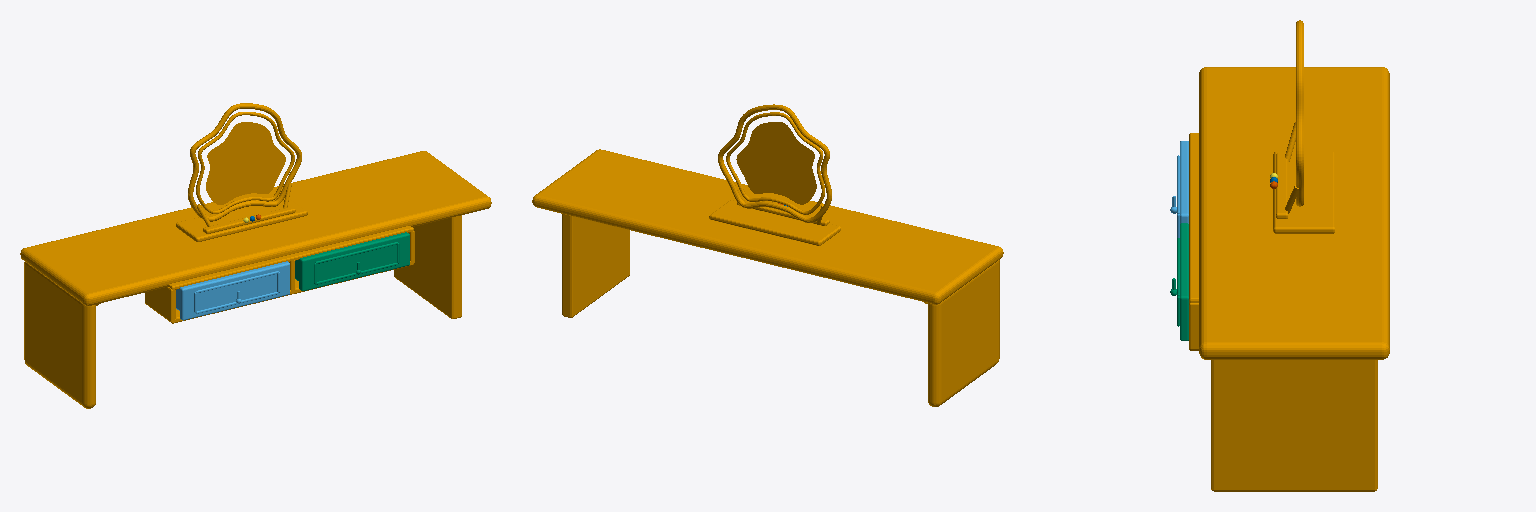
The robot description file, URDF, robot "dressing_table001":
<?xml version="1.0"?>

<robot name="dressing_table001">

  <link name="base_link">
    <inertial>
      <origin xyz="0 0 0" rpy="0 0 0"/>
      <mass value="8"/>
      <inertia ixx="0.08" ixy="0" ixz="0" iyy="0.08" iyz="0" izz="0.08"/>
    </inertial>
    <visual>
      <origin xyz="0 0 0" rpy="0 0 0"/>
      <geometry>
        <mesh filename="meshes/base_link.obj" scale="1 1 1"/>
      </geometry>
    </visual>
    <collision>
      <origin xyz="0 0 0" rpy="0 0 0"/>
      <geometry>
        <mesh filename="meshes/base_link.obj" scale="1 1 1"/>
      </geometry>
    </collision>
  </link>

  <link name="drawer_left_link">
    <inertial>
      <origin xyz="0 0 0" rpy="0 0 0"/>
      <mass value="0.8"/>
      <inertia ixx="0.008" ixy="0" ixz="0" iyy="0.008" iyz="0" izz="0.008"/>
    </inertial>
    <visual>
      <origin xyz="0 0 0" rpy="0 0 0"/>
      <geometry>
        <mesh filename="meshes/drawer_left_link.obj" scale="1 1 1"/>
      </geometry>
    </visual>
    <collision>
      <origin xyz="0 0 0" rpy="0 0 0"/>
      <geometry>
        <mesh filename="meshes/drawer_left_link.obj" scale="1 1 1"/>
      </geometry>
    </collision>
  </link>

  <link name="drawer_right_link">
    <inertial>
      <origin xyz="0 0 0" rpy="0 0 0"/>
      <mass value="0.8"/>
      <inertia ixx="0.008" ixy="0" ixz="0" iyy="0.008" iyz="0" izz="0.008"/>
    </inertial>
    <visual>
      <origin xyz="0 0 0" rpy="0 0 0"/>
      <geometry>
        <mesh filename="meshes/drawer_right_link.obj" scale="1 1 1"/>
      </geometry>
    </visual>
    <collision>
      <origin xyz="0 0 0" rpy="0 0 0"/>
      <geometry>
        <mesh filename="meshes/drawer_right_link.obj" scale="1 1 1"/>
      </geometry>
    </collision>
  </link>

  <link name="control_button_1_link">
    <inertial>
      <origin xyz="0 0 0" rpy="0 0 0"/>
      <mass value="0.03"/>
      <inertia ixx="0.0003" ixy="0" ixz="0" iyy="0.0003" iyz="0" izz="0.0003"/>
    </inertial>
    <visual>
      <origin xyz="0 0 0" rpy="0 0 0"/>
      <geometry>
        <mesh filename="meshes/control_button_1_link.obj" scale="1 1 1"/>
      </geometry>
    </visual>
    <collision>
      <origin xyz="0 0 0" rpy="0 0 0"/>
      <geometry>
        <mesh filename="meshes/control_button_1_link.obj" scale="1 1 1"/>
      </geometry>
    </collision>
  </link>

  <link name="control_button_2_link">
    <inertial>
      <origin xyz="0 0 0" rpy="0 0 0"/>
      <mass value="0.03"/>
      <inertia ixx="0.0003" ixy="0" ixz="0" iyy="0.0003" iyz="0" izz="0.0003"/>
    </inertial>
    <visual>
      <origin xyz="0 0 0" rpy="0 0 0"/>
      <geometry>
        <mesh filename="meshes/control_button_2_link.obj" scale="1 1 1"/>
      </geometry>
    </visual>
    <collision>
      <origin xyz="0 0 0" rpy="0 0 0"/>
      <geometry>
        <mesh filename="meshes/control_button_2_link.obj" scale="1 1 1"/>
      </geometry>
    </collision>
  </link>

  <link name="control_button_3_link">
    <inertial>
      <origin xyz="0 0 0" rpy="0 0 0"/>
      <mass value="0.03"/>
      <inertia ixx="0.0003" ixy="0" ixz="0" iyy="0.0003" iyz="0" izz="0.0003"/>
    </inertial>
    <visual>
      <origin xyz="0 0 0" rpy="0 0 0"/>
      <geometry>
        <mesh filename="meshes/control_button_3_link.obj" scale="1 1 1"/>
      </geometry>
    </visual>
    <collision>
      <origin xyz="0 0 0" rpy="0 0 0"/>
      <geometry>
        <mesh filename="meshes/control_button_3_link.obj" scale="1 1 1"/>
      </geometry>
    </collision>
  </link>

  <joint name="left_drawer_slide" type="prismatic">
    <parent link="base_link"/>
    <child link="drawer_left_link"/>
    <origin xyz="-0.44 -0.495 0.645" rpy="0 0 0"/>
    <axis xyz="0 -1 0"/>
    <limit lower="0" upper="0.38" effort="20" velocity="0.5"/>
  </joint>

  <joint name="right_drawer_slide" type="prismatic">
    <parent link="base_link"/>
    <child link="drawer_right_link"/>
    <origin xyz="0.44 -0.495 0.645" rpy="0 0 0"/>
    <axis xyz="0 -1 0"/>
    <limit lower="0" upper="0.38" effort="20" velocity="0.5"/>
  </joint>

  <joint name="control_button_1_press" type="prismatic">
    <parent link="base_link"/>
    <child link="control_button_1_link"/>
    <origin xyz="-0.125 -0.092 0.906" rpy="0 0 0"/>
    <axis xyz="0 0 -1"/>
    <limit lower="0" upper="0.012" effort="2" velocity="0.05"/>
  </joint>

  <joint name="control_button_2_press" type="prismatic">
    <parent link="base_link"/>
    <child link="control_button_2_link"/>
    <origin xyz="-0.08 -0.092 0.906" rpy="0 0 0"/>
    <axis xyz="0 0 -1"/>
    <limit lower="0" upper="0.012" effort="2" velocity="0.05"/>
  </joint>

  <joint name="control_button_3_press" type="prismatic">
    <parent link="base_link"/>
    <child link="control_button_3_link"/>
    <origin xyz="-0.035 -0.092 0.906" rpy="0 0 0"/>
    <axis xyz="0 0 -1"/>
    <limit lower="0" upper="0.012" effort="2" velocity="0.05"/>
  </joint>

</robot>

--- Render facts (derived) ---
3 views of the same robot in one strip: view 1: azimuth 30°, elevation 25°; view 2: azimuth 150°, elevation 25°; view 3: azimuth 270°, elevation 25° (orthographic).
Robot: dressing_table001 — 6 links, 5 joints (5 prismatic); root link base_link; default pose: all joints at 0.
Links seen in each view (by area): view 1: base_link, drawer_right_link, drawer_left_link; view 2: base_link; view 3: base_link, drawer_right_link, drawer_left_link.
Link boxes in pixels (left/top/right/bottom): base_link: left=20, top=103, right=491, bottom=408; drawer_right_link: left=295, top=232, right=409, bottom=290; drawer_left_link: left=176, top=261, right=289, bottom=320; base_link: left=532, top=104, right=1003, bottom=406; base_link: left=1189, top=20, right=1389, bottom=491; drawer_right_link: left=1170, top=223, right=1188, bottom=340; drawer_left_link: left=1170, top=141, right=1188, bottom=237.
Bounding box of the posed robot: 3 × 0.99 × 1.67 m (x, y, z).
Meshes: 6 distinct files referenced, 6 mesh visuals loaded (6 OBJ).
